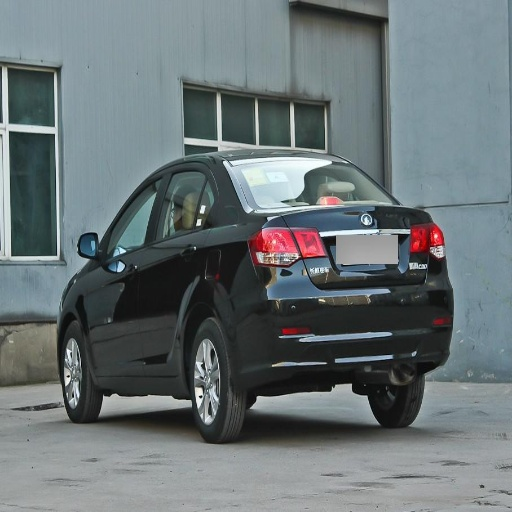back_bumper: (227, 264, 454, 383)
back_glass: (230, 158, 388, 206)
back_left_door: (133, 163, 209, 372)
tailgate: (281, 197, 418, 287)
